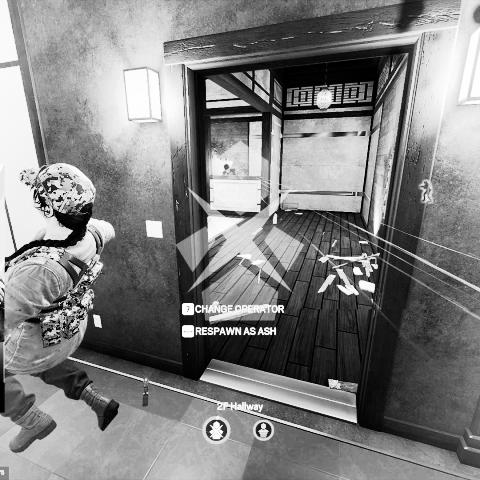Character: (0, 162, 120, 459), (222, 162, 237, 176)
Head: (29, 160, 98, 236), (223, 162, 232, 173)
